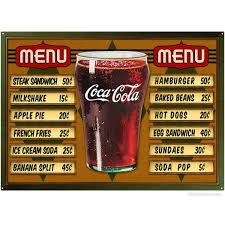coke: (72, 49, 150, 179)
